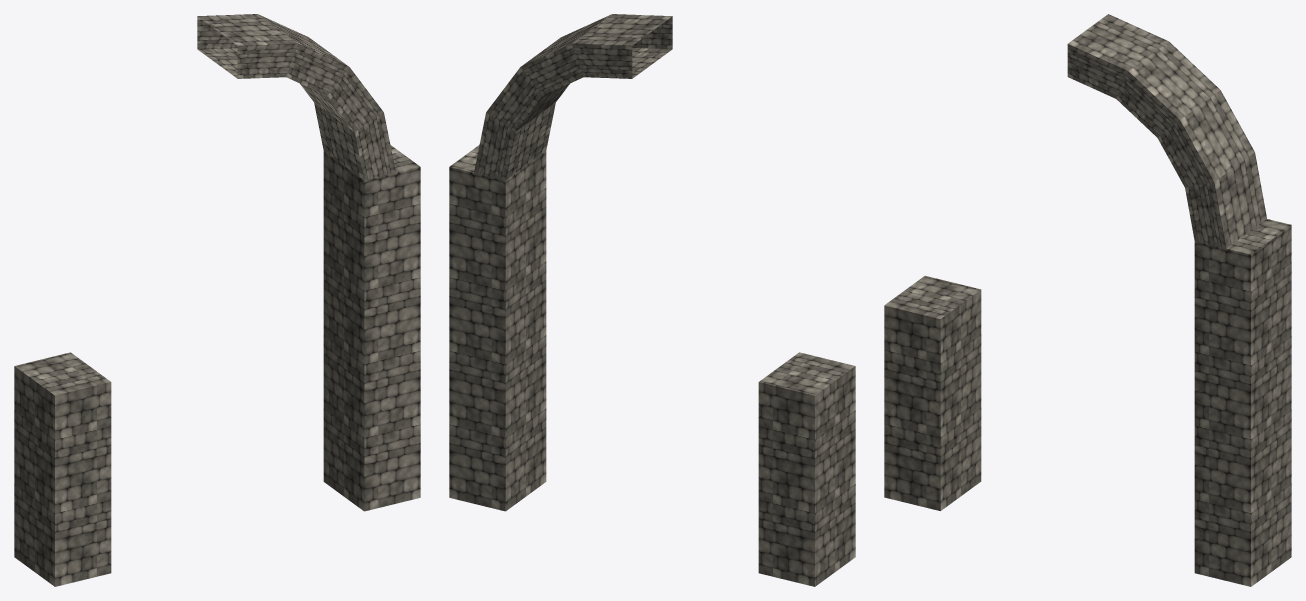
The model's file is Ruin_Wall_2_LOD1.gltf.
3 views of the same model, side by side, from view 1: azimuth 30°, elevation 25°; view 2: azimuth 150°, elevation 25°; view 3: azimuth 330°, elevation 25° (orthographic).
Visible parts, largest first — view 1: Ruin_Wall_2_LOD1; view 2: Ruin_Wall_2_LOD1; view 3: Ruin_Wall_2_LOD1.
Boxes of the visible parts, x1=… form: Ruin_Wall_2_LOD1: x1=14, y1=14, x2=420, y2=586; Ruin_Wall_2_LOD1: x1=449, y1=14, x2=855, y2=586; Ruin_Wall_2_LOD1: x1=884, y1=14, x2=1291, y2=586.
Bounding box in the file's own units: 5.2 × 6.75 × 1.
1 material, 1 textured.
